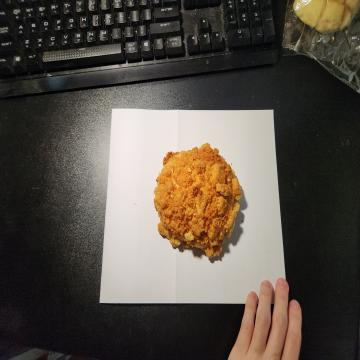soboru_bread: (153, 140, 241, 265)
